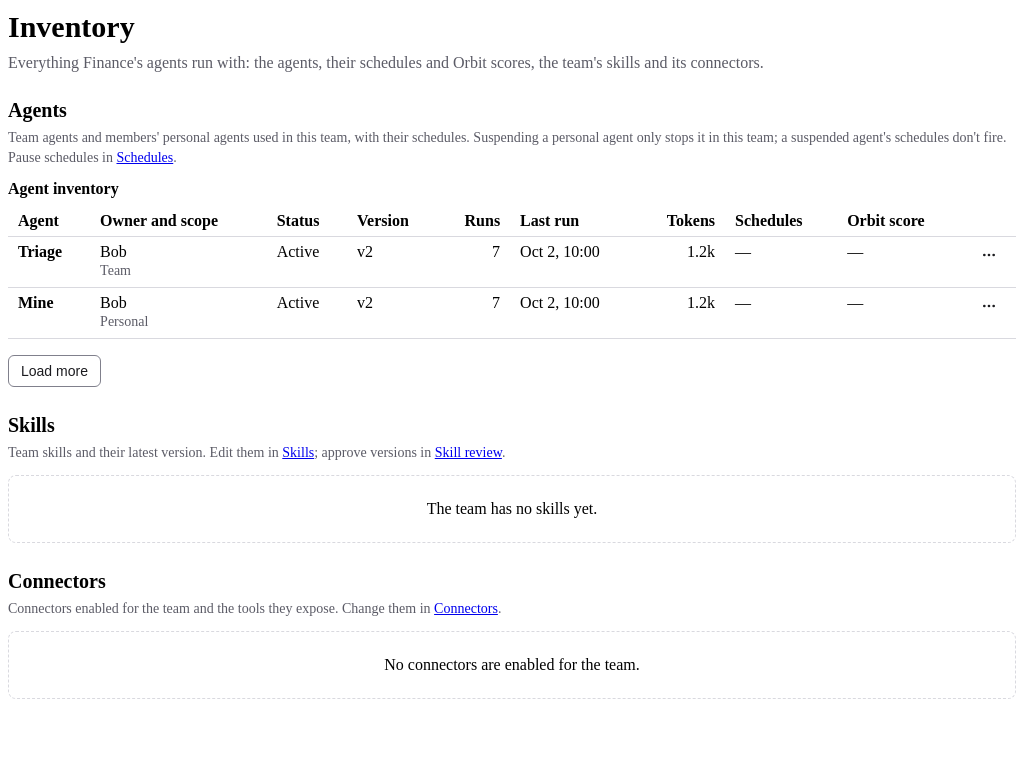
Inventory: agents (KOBE-86, moved here by KOBE-291) › shows owner, scope, status, versions, usage and placeholders, and pages
This screenshot has width=1024, height=768.
Expected: the row "Mine Bob Personal Active v2 7 Oct 2, 10:00 1.2k — —" is shown, [8,287,1016,338]
Expected: the element titled "1,234 tokens" in the row of "Mine" is shown, [687,294,715,310]
Click the button "Load more" at {"x": 54, "y": 370}, box [8,354,101,386]
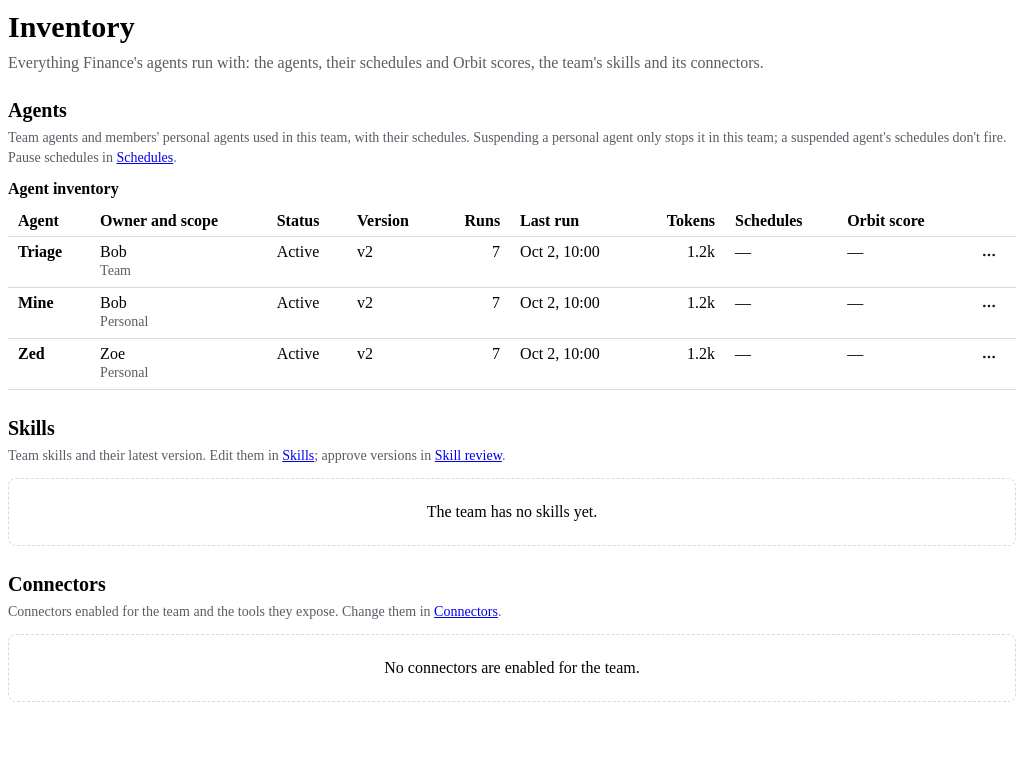
Expected: the row "Zed Zoe Personal Active v2 7 Oct 2, 10:00 1.2k — —" is shown, [8,338,1016,389]
Expected: the button "Load more" is gone
